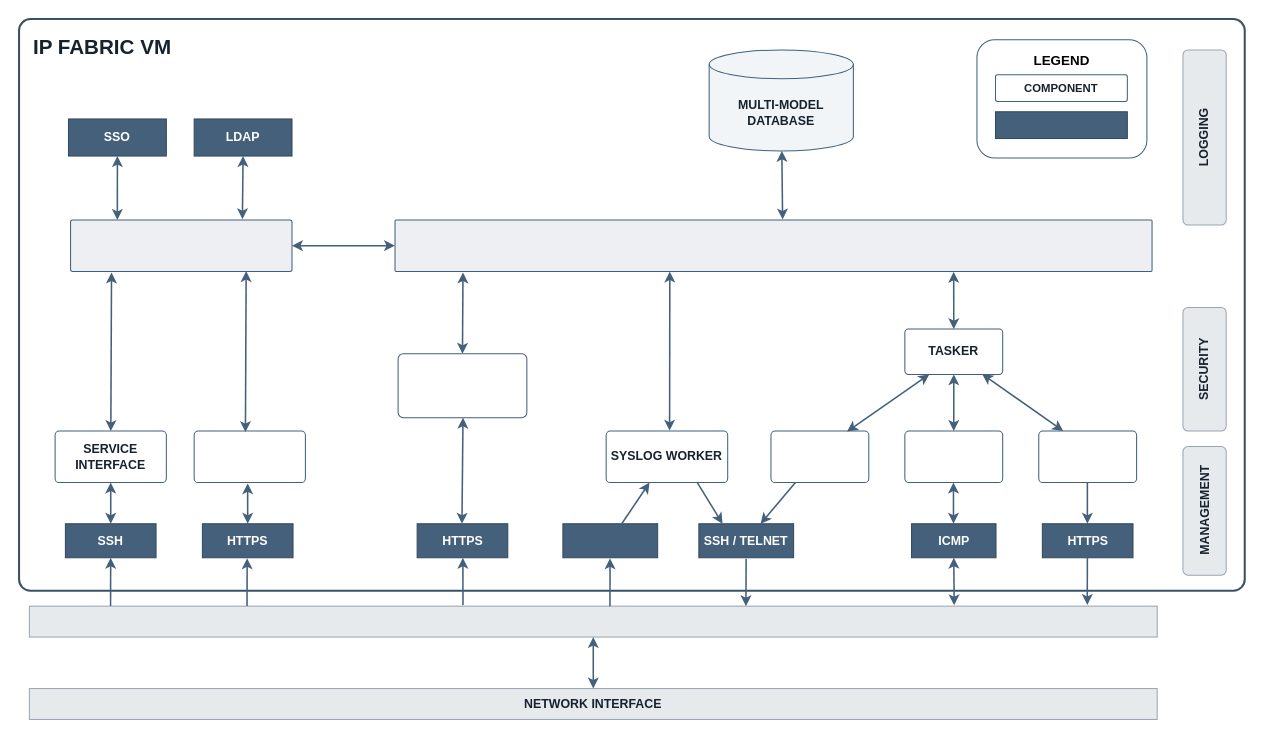
Image size: 1263x737. Some labels were removed from this diagram. Here are the shapes that lost their labels. From the top down, the centre of each, then its label:
At pixel 1060 125: "PROTOCOL".
At pixel 181 245: "AUTHENTICATION & AUTHORIZATION".
At pixel 773 245: "API".
At pixel 462 385: "USER INTERFACE".
At pixel 249 456: "ADMIN INTERFACE".
At pixel 819 456: "CLI / SCAN WORKER".
At pixel 953 456: "TRACE WORKER".
At pixel 1087 456: "API WORKER".
At pixel 610 540: "UDP 514".
At pixel 592 621: "NETWORK TRAFFIC MANAGEMENT".
